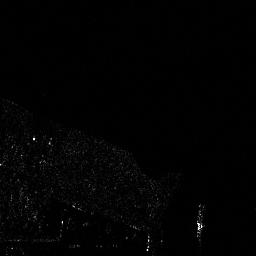ship: (195, 202, 206, 238)
